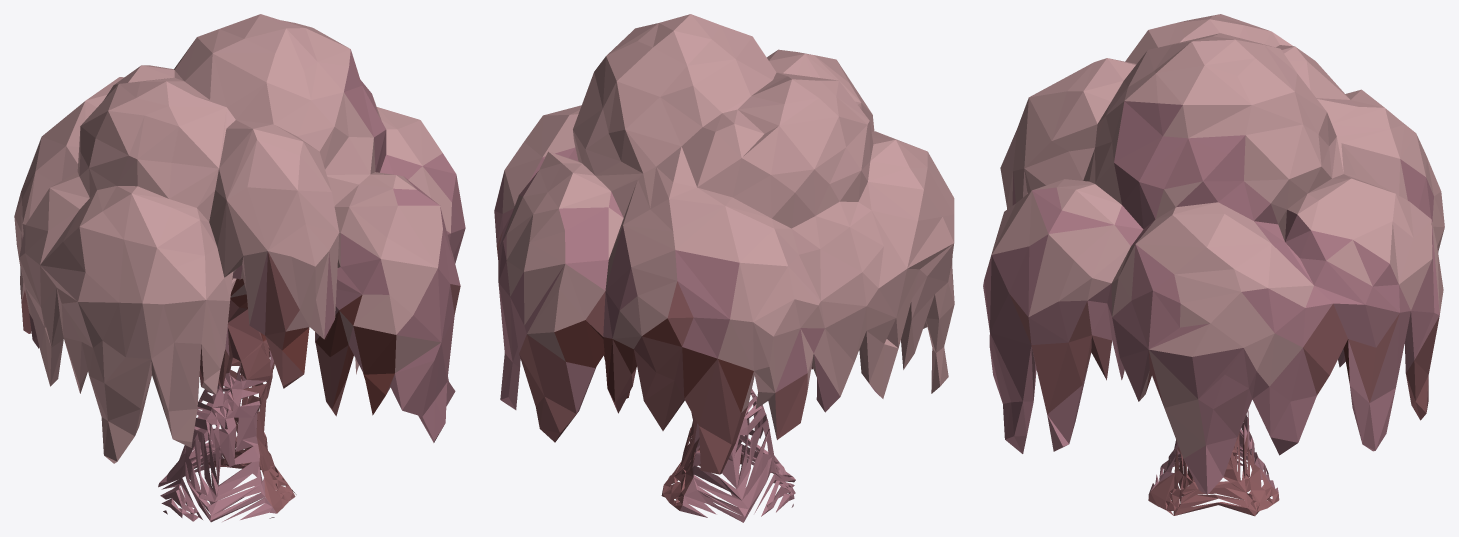
File: tree_willow.glb
The picture shows the model from 3 angles, left to right: view 1: azimuth 30°, elevation 25°; view 2: azimuth 150°, elevation 25°; view 3: azimuth 270°, elevation 25°; orthographic projection. The views are drawn at different scales.
Visible parts, largest first — view 1: geometry_0; view 2: geometry_0; view 3: geometry_0.
Boxes of the visible parts, left/top/right/bottom form: geometry_0: left=14, top=14, right=465, bottom=522; geometry_0: left=494, top=14, right=954, bottom=522; geometry_0: left=983, top=14, right=1444, bottom=516.
Size of the model in its own units: 1.82 by 1.98 by 1.74.
